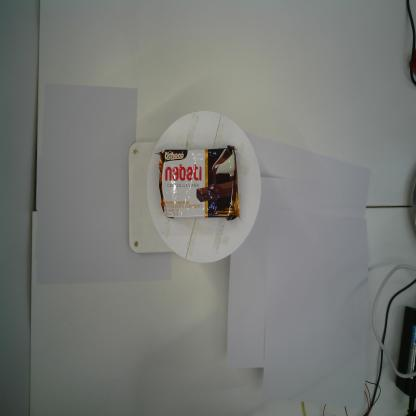Dessert: (152, 144, 241, 222)
